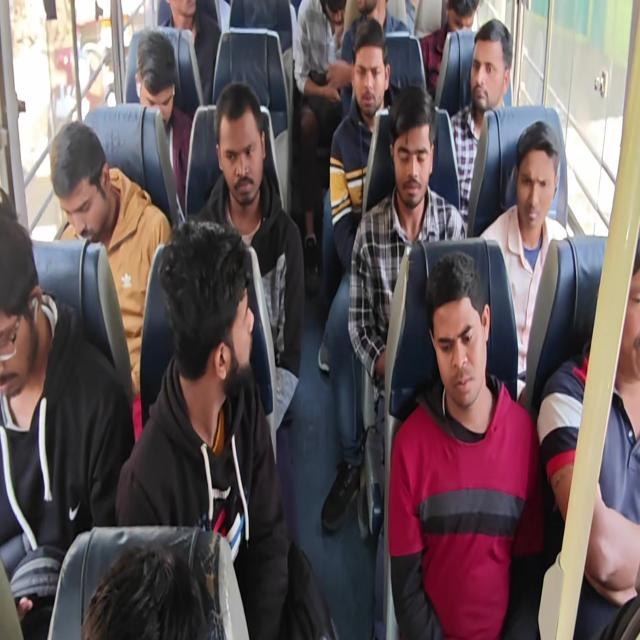person: (74, 506, 236, 640), (156, 218, 254, 413), (413, 252, 499, 405), (0, 187, 50, 392), (34, 120, 117, 242), (594, 246, 640, 417), (382, 105, 436, 202), (212, 99, 266, 193), (466, 35, 516, 128), (519, 136, 563, 234), (134, 27, 179, 122), (435, 0, 486, 51), (350, 42, 384, 114), (147, 0, 200, 26), (314, 0, 354, 30), (356, 0, 390, 24)
